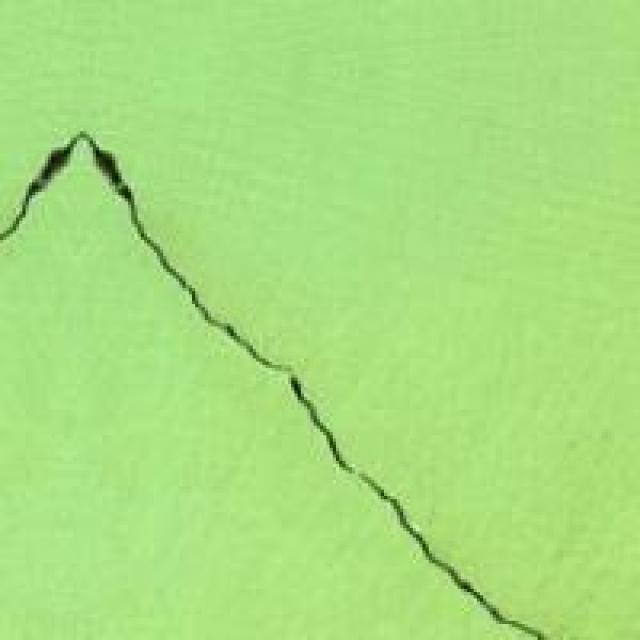Crack: (0, 86, 531, 636)
